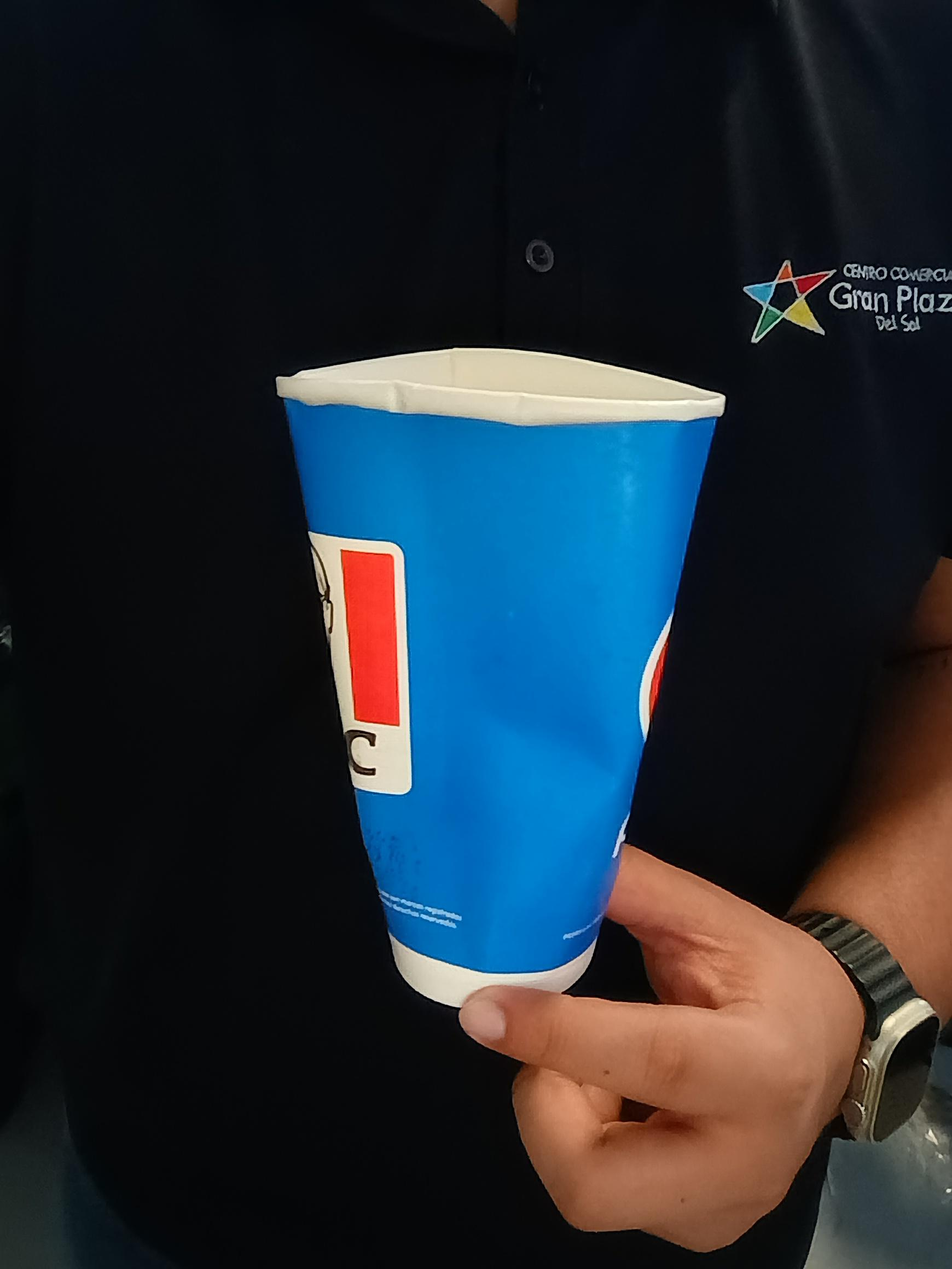Carton: (278, 345, 728, 1011)
